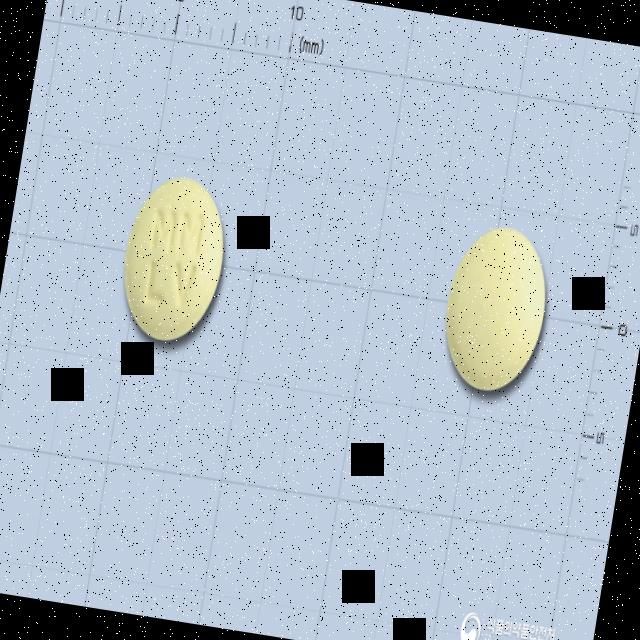Levofuracin: (112, 168, 236, 350)
